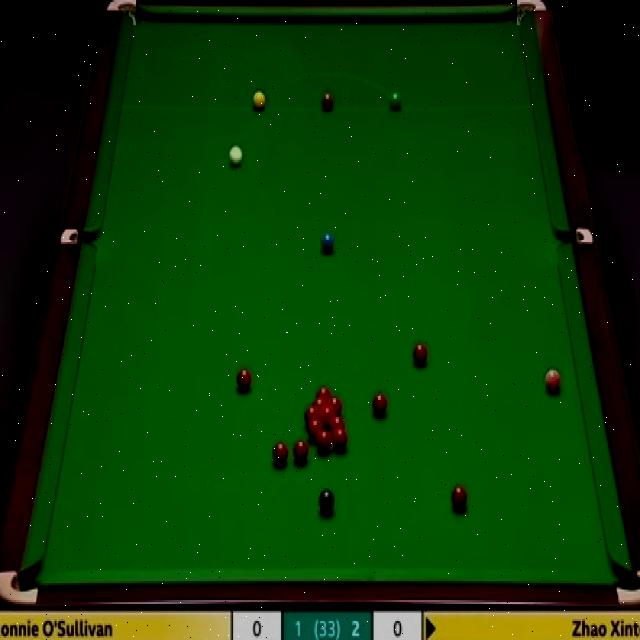black-ball: (318, 488, 335, 514)
blue-ball: (320, 231, 334, 251)
brown-ball: (320, 93, 334, 110)
green-ball: (388, 88, 404, 114)
pink-ball: (544, 367, 561, 392)
red-ball: (370, 391, 388, 419), (273, 438, 288, 466), (292, 440, 307, 467), (451, 485, 467, 510), (321, 405, 337, 428), (317, 430, 333, 452), (238, 368, 252, 393), (413, 342, 427, 367), (308, 417, 322, 441), (326, 396, 342, 416), (332, 430, 347, 450), (304, 406, 320, 424), (330, 417, 346, 433), (312, 396, 328, 409), (316, 384, 332, 397)
white-ball: (229, 146, 242, 166)
yellow-ball: (252, 90, 266, 111)
